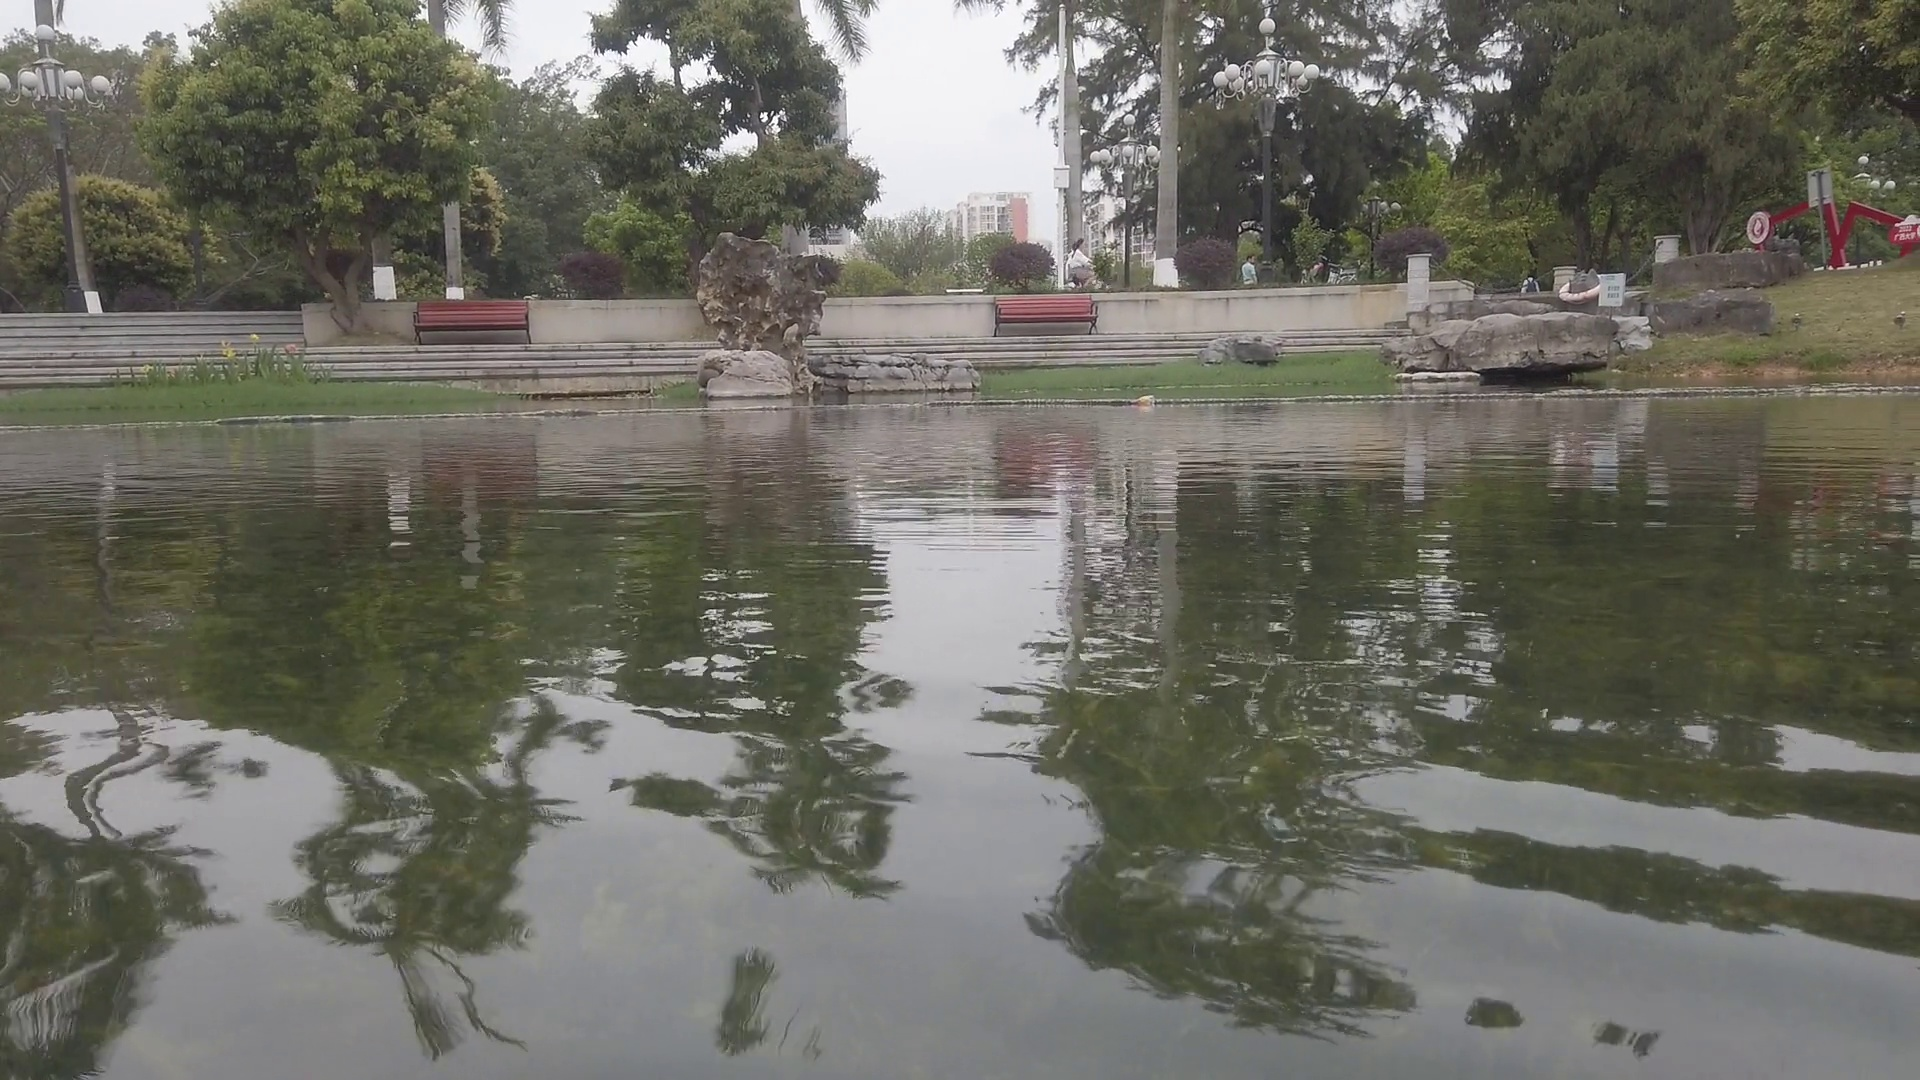bottle: (1127, 396, 1156, 405)
